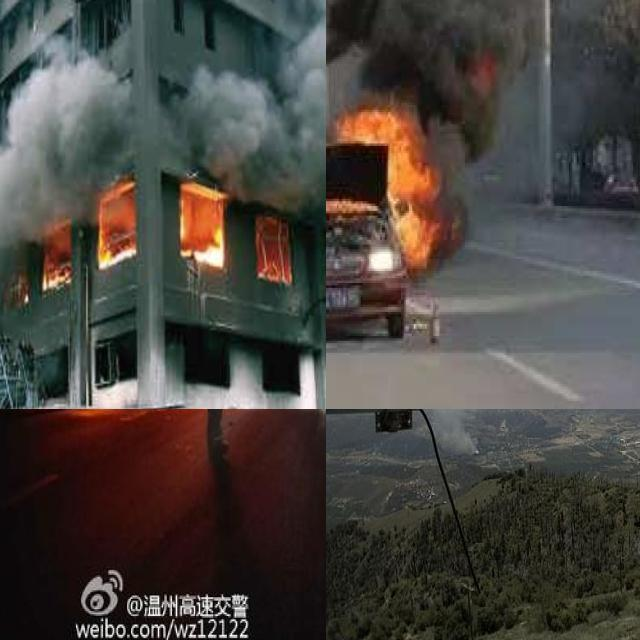fire: (326, 49, 450, 338), (182, 177, 224, 268), (96, 182, 139, 269), (252, 208, 292, 284), (35, 226, 73, 295)
smoke: (326, 0, 608, 153), (184, 0, 326, 222), (0, 50, 132, 283), (407, 409, 479, 457)
